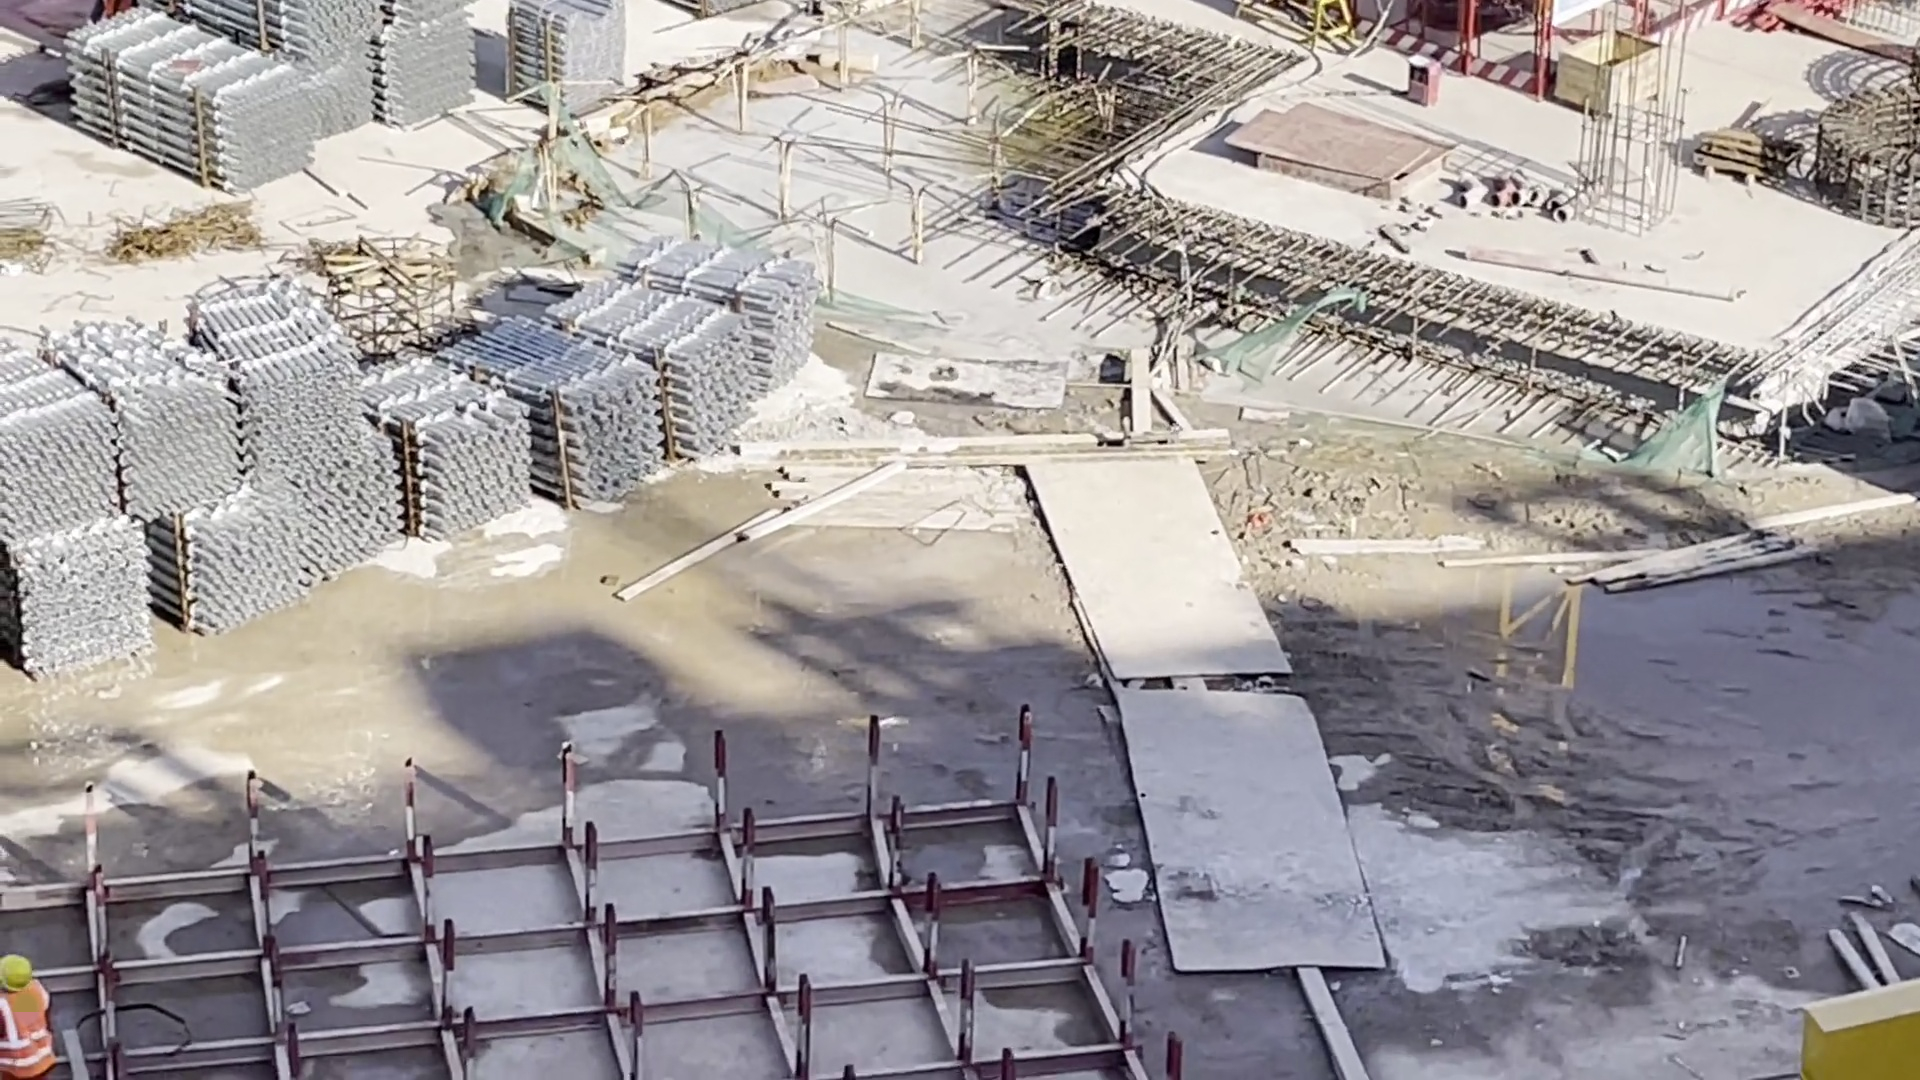board: (1213, 89, 1469, 198)
helmet: (1, 953, 34, 999)
person: (3, 951, 69, 1080)
scaffold: (1, 244, 819, 683), (65, 1, 469, 195), (505, 3, 626, 109)
vest: (6, 992, 54, 1075)
